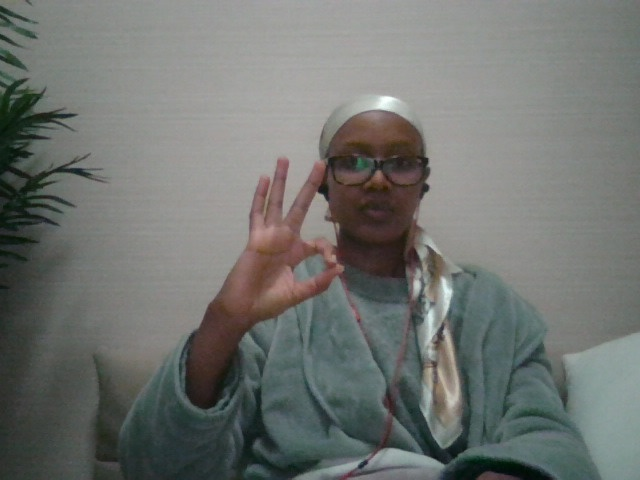ok: (215, 151, 352, 332)
